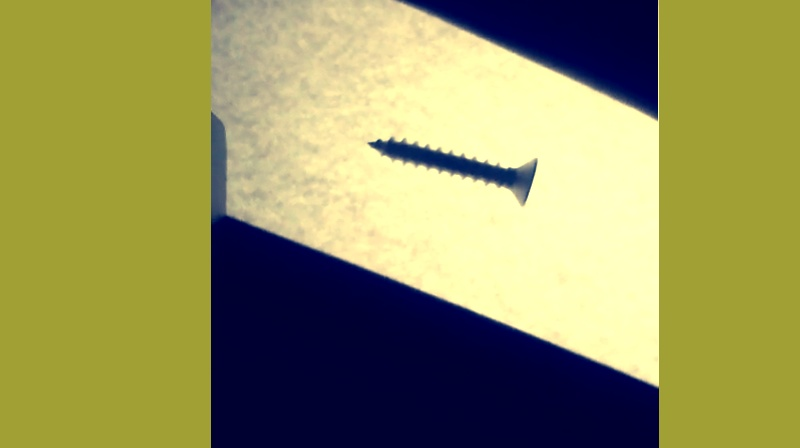S001: (362, 130, 542, 210)
